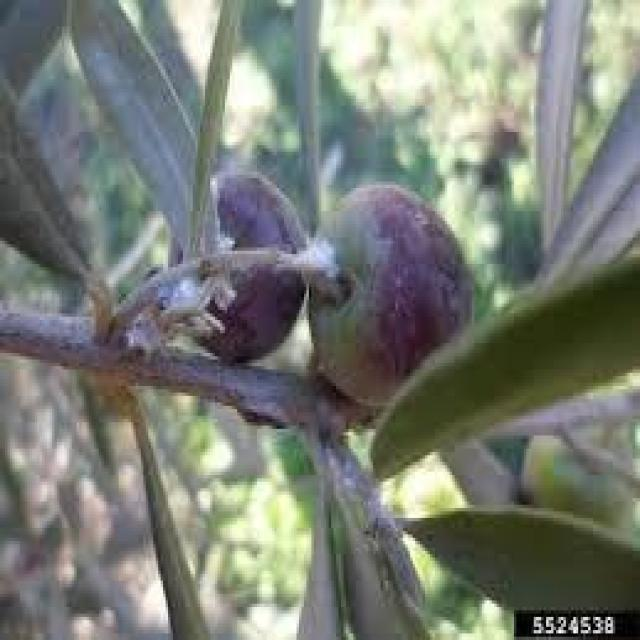Psyllid: (128, 218, 232, 346), (284, 254, 348, 304)
